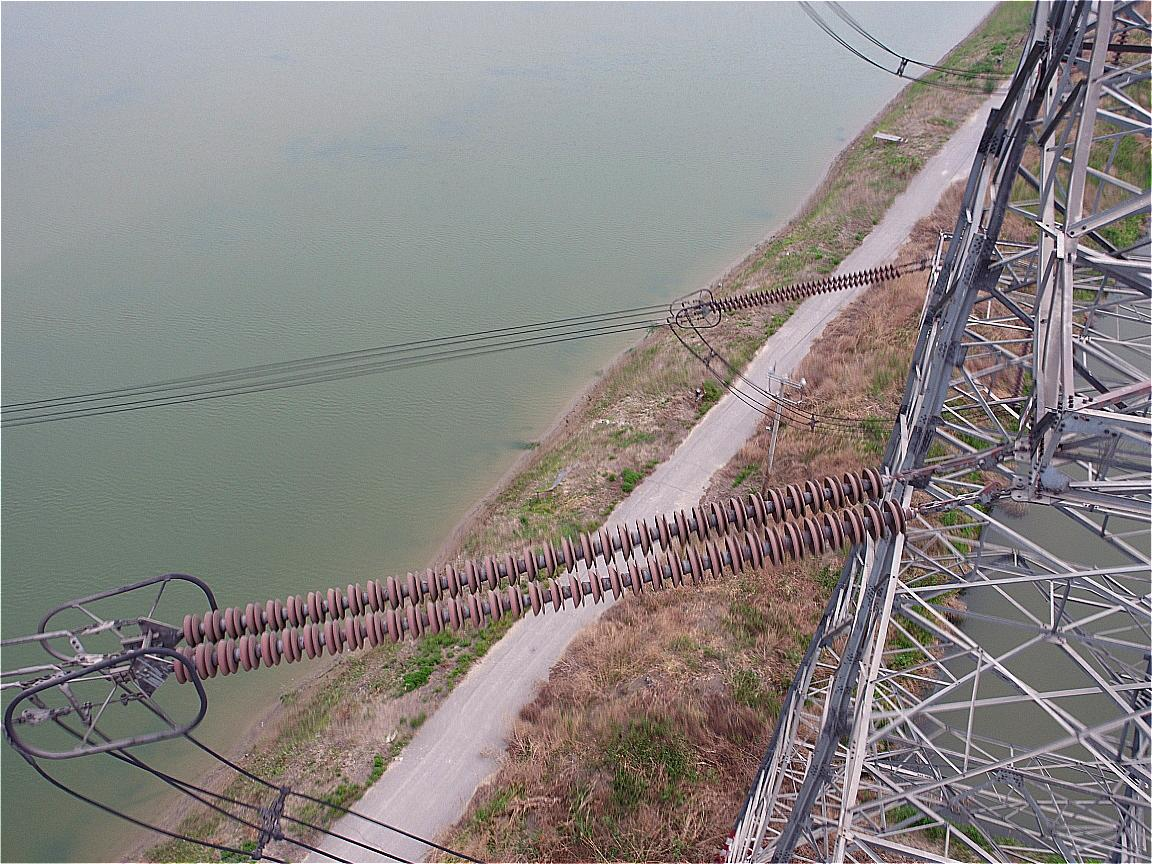insultor1: (710, 263, 903, 315)
insultor2: (172, 464, 908, 684)
